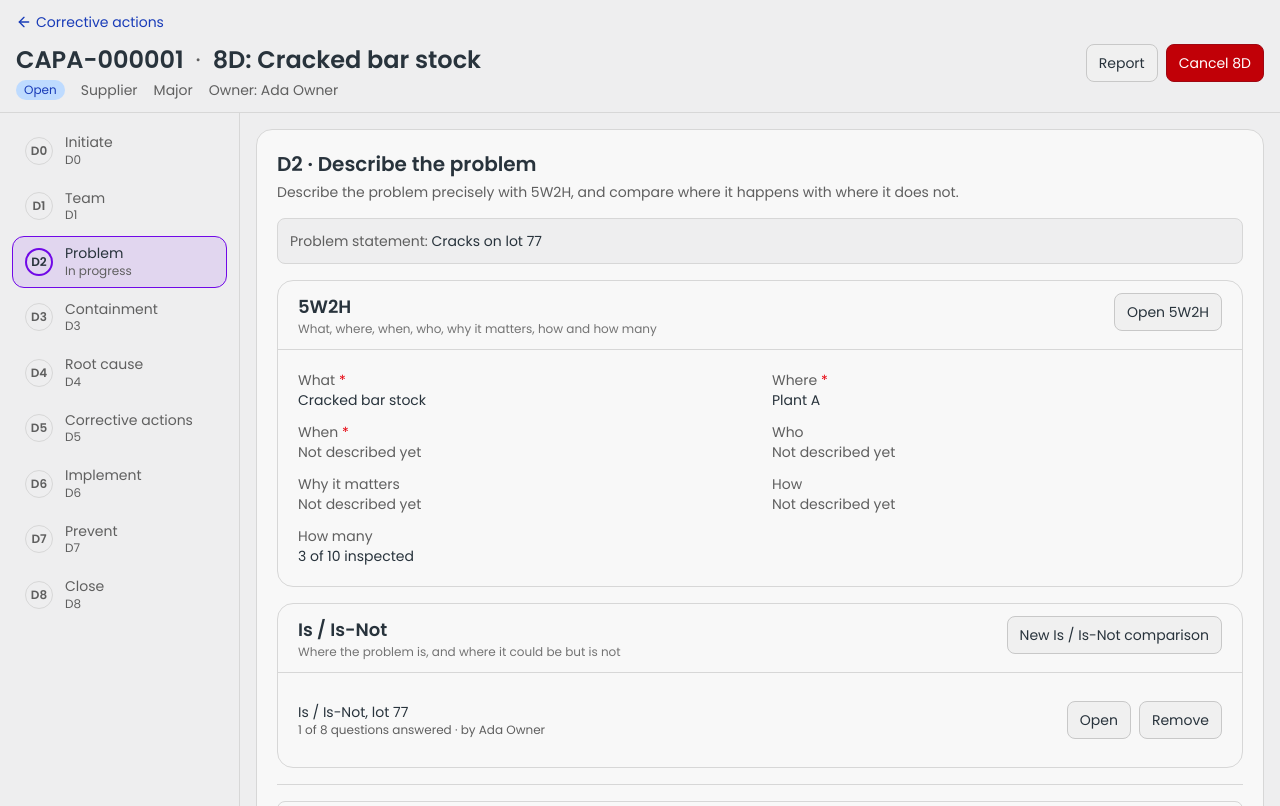
Test: D2: describe the problem › lists saved comparisons, reopens one with its answers, and removes one
This screenshot has width=1280, height=806.
Later steps or results of the test are not shown.
expect the text "1 of 8 questions answered · by Ada Owner" is shown: met, box [298,722,545,738]
Click the button with aria-label "Open Is / Is-Not, lot 77" at (1099, 720), box [1067,701,1131,739]
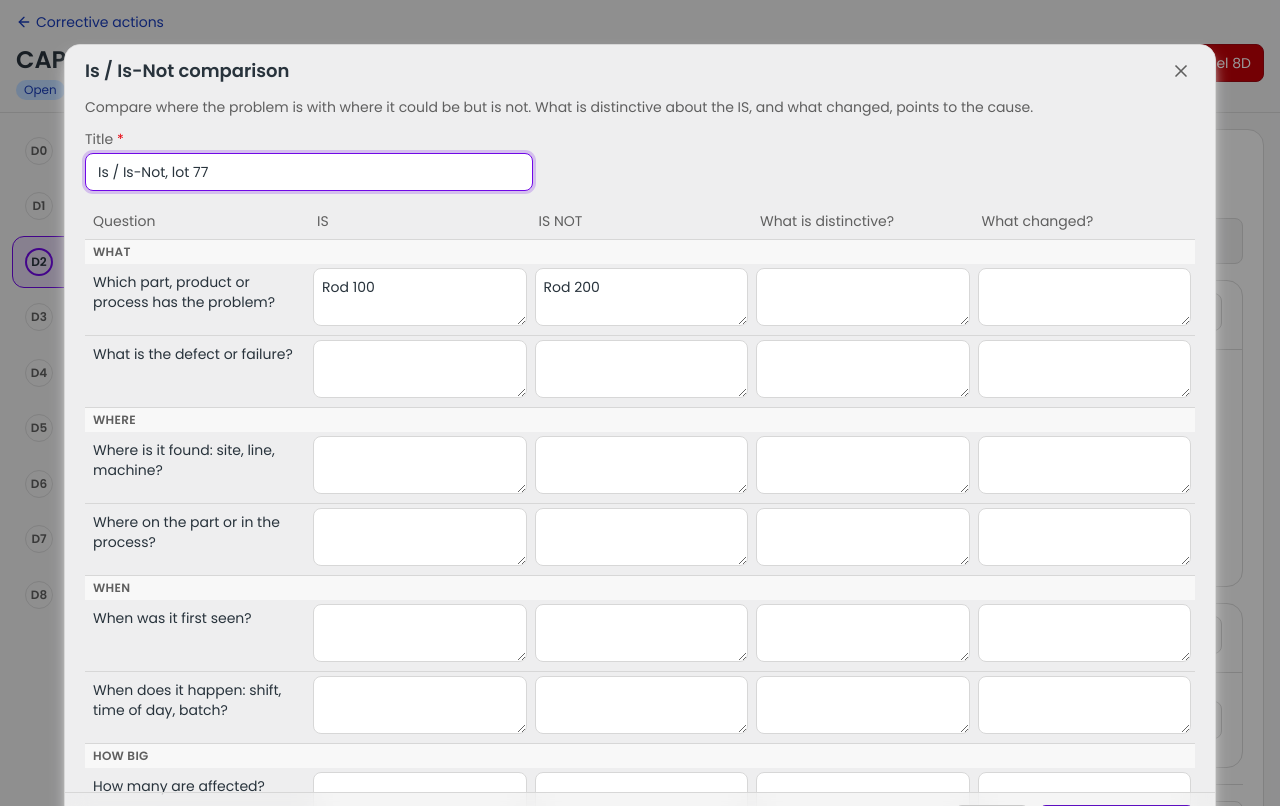
expect the text box named "Which part, product or process has the problem? — IS" holds "Rod 100": met, box [313,268,526,326]
